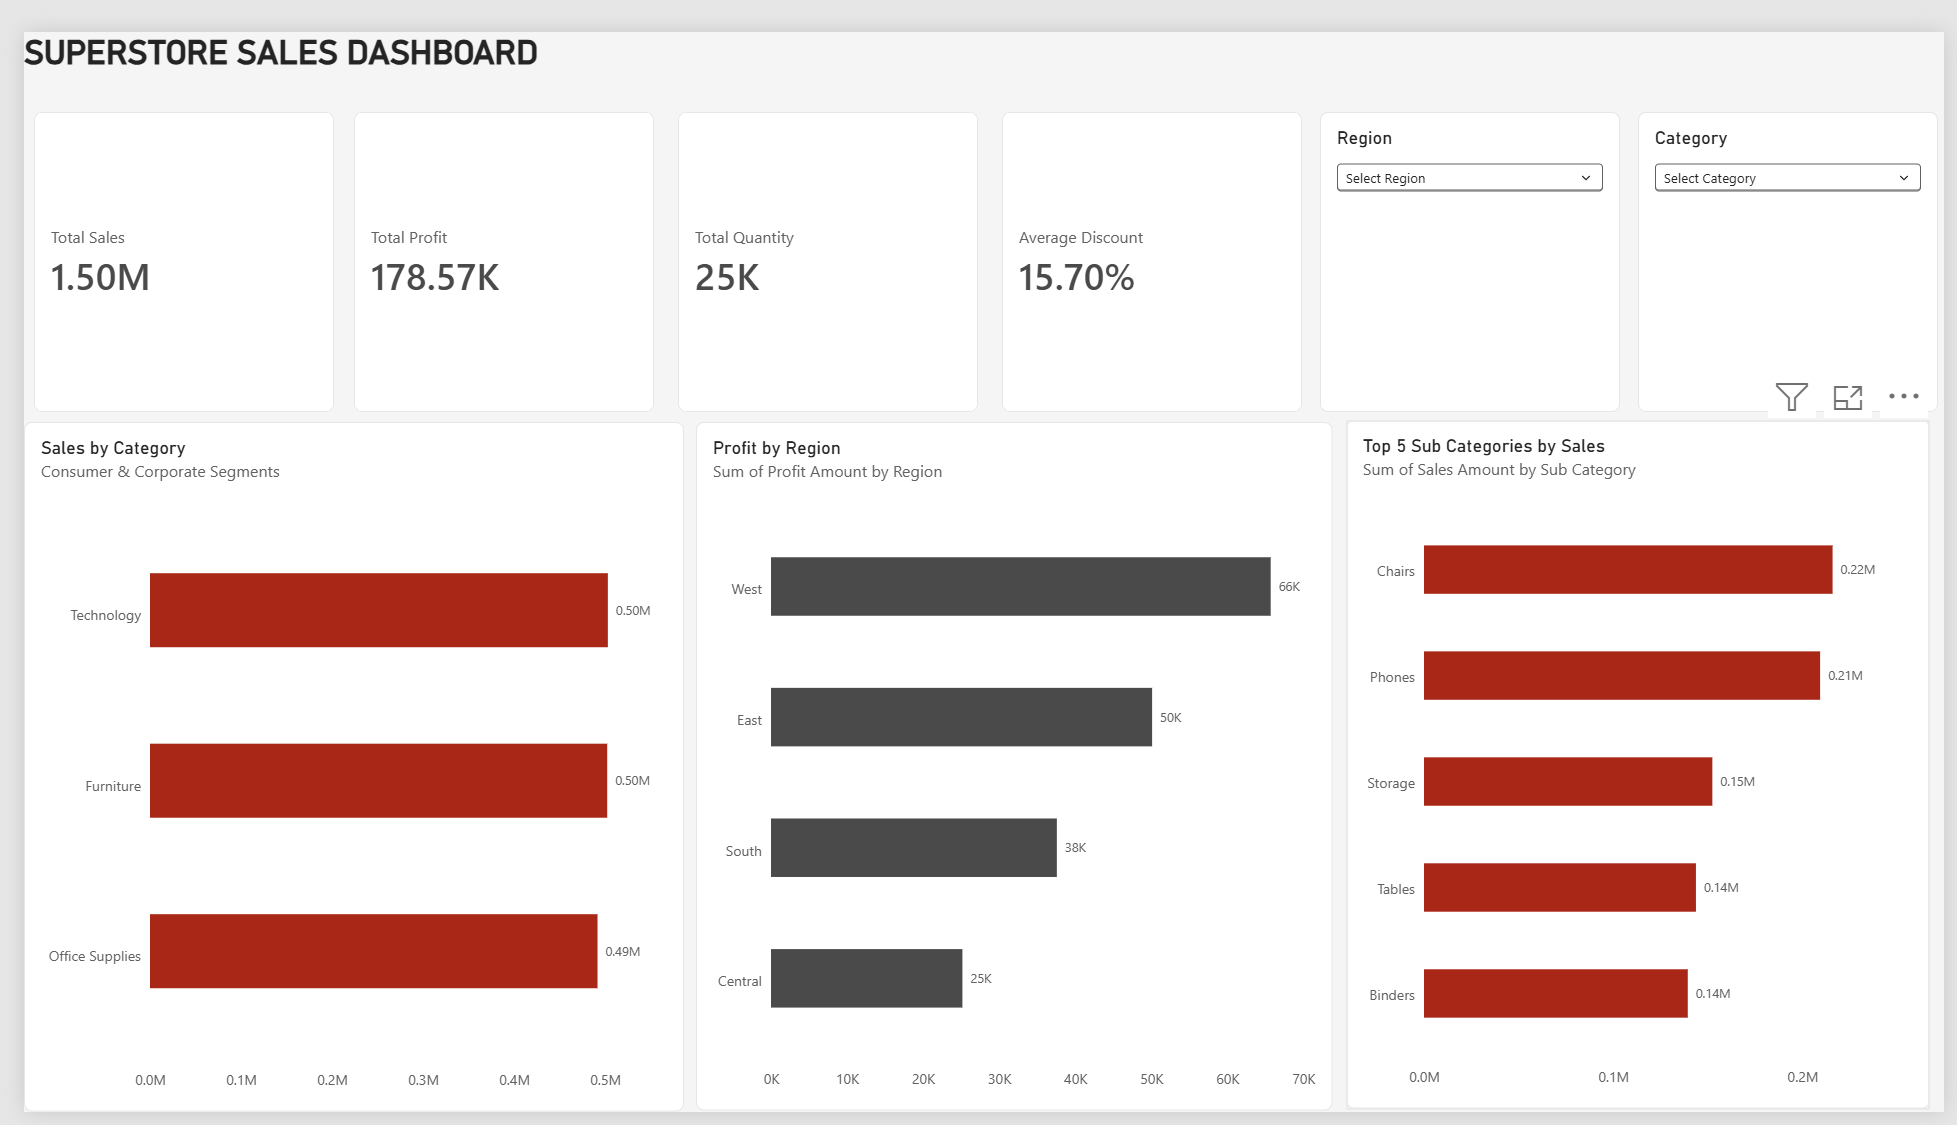

The dashboard page shown, as its layout file describes it:
{"tool":"powerbi","page":{"name":"Sales Dashboard","canvas":[1920,1080],"ordinal":0},"visuals":[{"type":"textbox","box":[10,0,280,280],"z":0},{"type":"textbox","box":[10,290,280,280],"z":1000},{"type":"textbox","box":[9.2,323.8,794.6,535.1],"z":2000},{"type":"textbox","title":"SUPERSTORE SALES DASHBOARD","box":[0,0,1920,1079.4],"z":3000},{"type":"cardVisual","fields":{"Data":["Sum(Superstore.Sales Amount)"]},"box":[9.2,80.4,300,300],"z":4000},{"type":"cardVisual","fields":{"Data":["Sum(Superstore.Profit Amount)"]},"box":[329.5,79.5,300,300],"z":5000},{"type":"cardVisual","fields":{"Data":["Sum(Superstore.Quantity)"]},"box":[654.5,79.5,300,300],"z":6000},{"type":"cardVisual","fields":{"Data":["Avg(Superstore.Discount)"]},"box":[977.3,79.5,300,300],"z":7000},{"type":"clusteredBarChart","title":"Sales by Category","fields":{"Category":["Superstore.Category"],"Y":["Sum(Superstore.Sales Amount)"]},"box":[0,389.5,659.9,689.6],"z":8000},{"type":"clusteredBarChart","title":"Profit by Region","fields":{"Category":["Superstore.Region"],"Y":["Sum(Superstore.Profit Amount)"]},"box":[672.7,390.9,636.4,688.6],"z":9000},{"type":"listSlicer","fields":{"Values":["Superstore.Region"]},"box":[1295.5,79.5,300,300],"z":10000},{"type":"listSlicer","fields":{"Values":["Superstore.Category"]},"box":[1613.6,79.5,300,300],"z":11000},{"type":"clusteredBarChart","title":"Top 5 Sub Categories by Sales","fields":{"Category":["Superstore.Sub Category"],"Y":["Sum(Superstore.Sales Amount)"]},"box":[1322.7,388.6,584.1,688.6],"z":12000}]}

Visuals, with their boxes in screenshot pixels (x1, y1, x2, y2), scaled from the page's 1920x1080 canvas onto the 1957x1125 screenshot:
textbox: (x1=10, y1=0, x2=296, y2=292)
textbox: (x1=10, y1=302, x2=296, y2=594)
textbox: (x1=9, y1=337, x2=819, y2=895)
"SUPERSTORE SALES DASHBOARD" textbox: (x1=0, y1=0, x2=1956, y2=1124)
cardVisual - Sum(Superstore.Sales Amount): (x1=9, y1=84, x2=315, y2=396)
cardVisual - Sum(Superstore.Profit Amount): (x1=336, y1=83, x2=642, y2=395)
cardVisual - Sum(Superstore.Quantity): (x1=667, y1=83, x2=973, y2=395)
cardVisual - Avg(Superstore.Discount): (x1=996, y1=83, x2=1302, y2=395)
"Sales by Category" clusteredBarChart: (x1=0, y1=406, x2=673, y2=1124)
"Profit by Region" clusteredBarChart: (x1=686, y1=407, x2=1334, y2=1124)
listSlicer - Superstore.Region: (x1=1320, y1=83, x2=1626, y2=395)
listSlicer - Superstore.Category: (x1=1645, y1=83, x2=1950, y2=395)
"Top 5 Sub Categories by Sales" clusteredBarChart: (x1=1348, y1=405, x2=1944, y2=1122)
